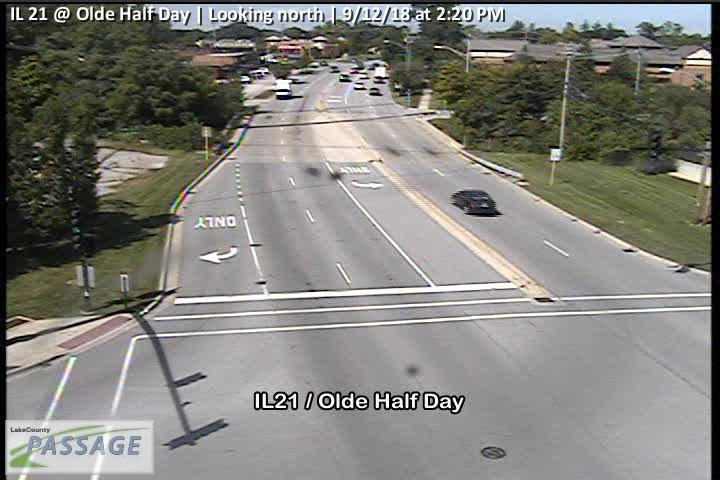Sedan: (449, 189, 496, 214)
Truck: (272, 79, 293, 99)
